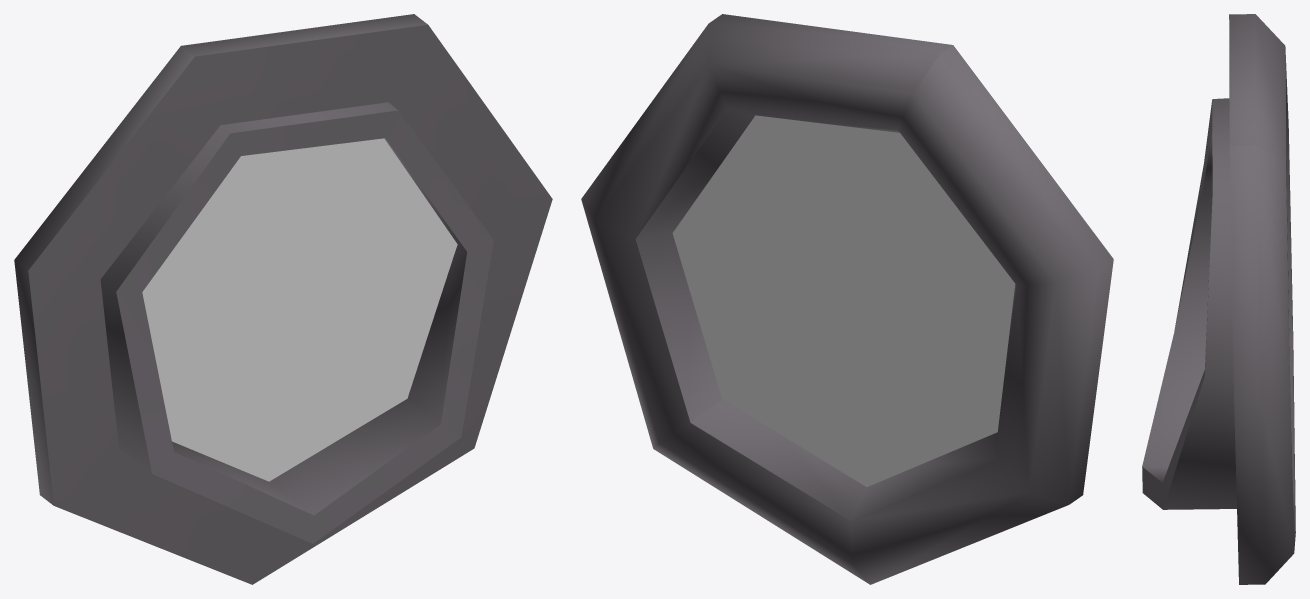
The model's file is Washing_machine_d_01-col.glb.
3 views of the same model, side by side, from view 1: azimuth 30°, elevation 25°; view 2: azimuth 150°, elevation 25°; view 3: azimuth 270°, elevation 25° (orthographic). The views are drawn at different scales.
Visible parts, largest first — view 1: Washing_machine_d_01-col; view 2: Washing_machine_d_01-col; view 3: Washing_machine_d_01-col.
Part boxes in pixels (left/top/right/bottom): Washing_machine_d_01-col: left=14, top=14, right=552, bottom=584; Washing_machine_d_01-col: left=581, top=14, right=1113, bottom=584; Washing_machine_d_01-col: left=1142, top=14, right=1295, bottom=584.
Bounding box in the file's own units: 0.7135 × 0.7128 × 0.1915.
Materials: 2 (1 with a texture image).
